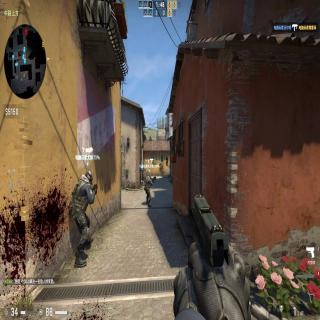CT-Body: (69, 169, 97, 268), (144, 174, 153, 208)
CT-Head: (85, 170, 94, 186)
T-Body: (166, 155, 168, 167)
